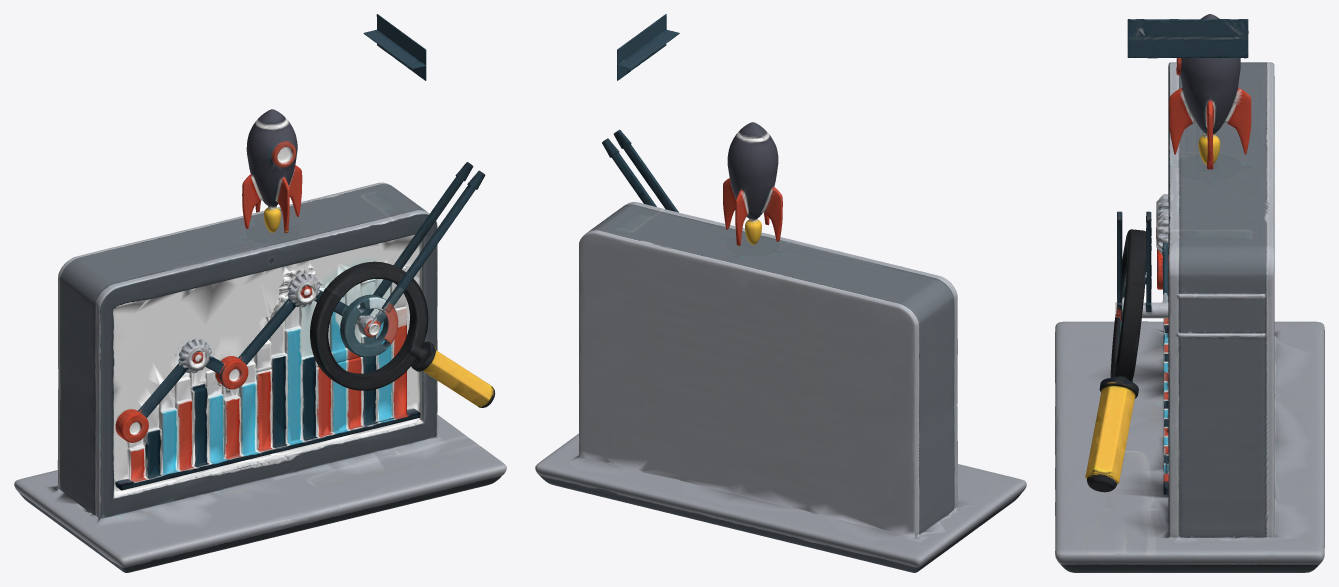
The model's file is analyst.glb.
3 renders of one model, left to right at view 1: azimuth 30°, elevation 25°; view 2: azimuth 150°, elevation 25°; view 3: azimuth 270°, elevation 25°, orthographic. The views are drawn at different scales.
Visible parts, largest first — view 1: tripo_node_9e35e268-b12a-4e75-8d02-32440ab937ae; view 2: tripo_node_9e35e268-b12a-4e75-8d02-32440ab937ae; view 3: tripo_node_9e35e268-b12a-4e75-8d02-32440ab937ae.
Boxes of the visible parts, x1,y1,x2,y2 form: tripo_node_9e35e268-b12a-4e75-8d02-32440ab937ae: (14,14,506,572); tripo_node_9e35e268-b12a-4e75-8d02-32440ab937ae: (535,14,1026,572); tripo_node_9e35e268-b12a-4e75-8d02-32440ab937ae: (1055,14,1324,572).
Bounding box in the file's own units: 0.9357 × 0.981 × 0.4526.
Materials: 1 (1 with a texture image).
